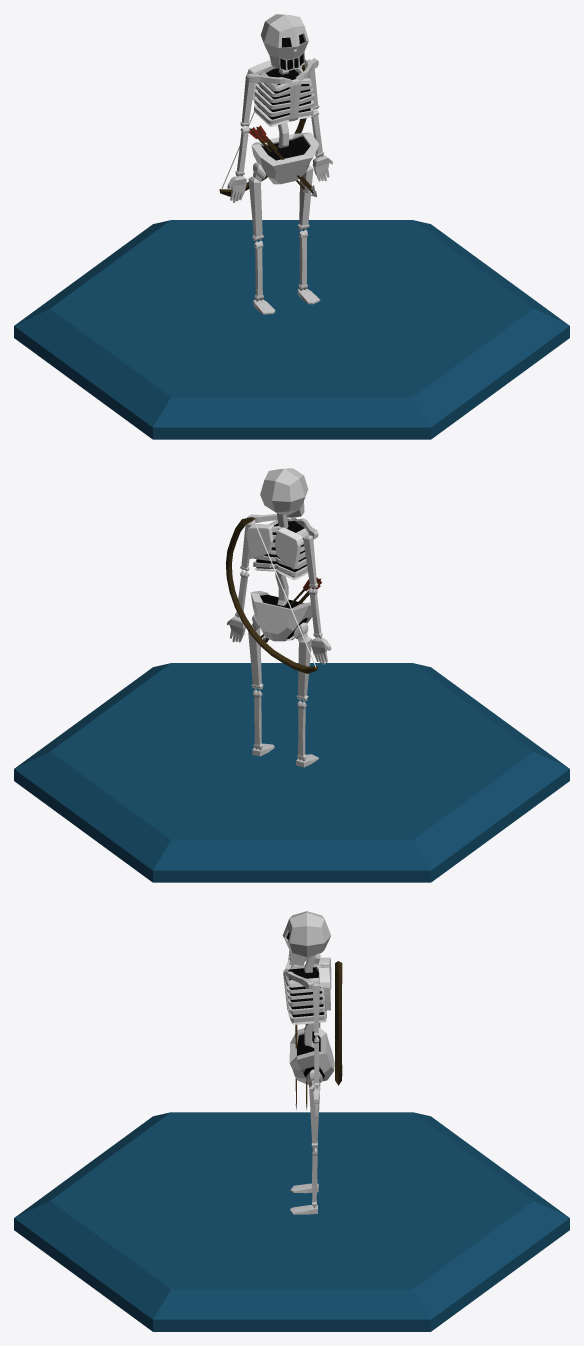
Rendered from Bow_Figure.fbx.
3 renders of one model, top to bottom at view 1: azimuth 30°, elevation 25°; view 2: azimuth 150°, elevation 25°; view 3: azimuth 270°, elevation 25°, orthographic.
Parts seen in each view (by area): view 1: Base, Ribs, Waist, Skull, Upper Leg Right, Upper Leg Left, Collar Bones; view 2: Base, Waist, Skull, Shoulder, Bow, Ribs, Upper Leg Right, Upper Leg Left; view 3: Base, Skull, Ribs, Waist, Bow, Upper Leg Left, Shoulder.
Boxes of the visible parts, box(x1,y1,x2,y2) form: Base: box(14, 220, 569, 439); Ribs: box(254, 66, 314, 126); Waist: box(251, 132, 319, 184); Skull: box(260, 14, 308, 71); Upper Leg Right: box(248, 162, 265, 241); Upper Leg Left: box(297, 165, 313, 230); Collar Bones: box(247, 58, 318, 83); Base: box(14, 663, 569, 882); Waist: box(250, 591, 312, 641); Skull: box(260, 468, 308, 517); Shoulder: box(246, 524, 303, 569); Bow: box(226, 517, 317, 673); Ribs: box(253, 518, 308, 579); Upper Leg Right: box(293, 622, 312, 701); Upper Leg Left: box(248, 614, 263, 689); Base: box(14, 1112, 569, 1331); Skull: box(282, 911, 330, 965); Ribs: box(283, 963, 326, 1024); Waist: box(289, 1027, 334, 1084); Bow: box(335, 961, 342, 1085); Upper Leg Left: box(306, 1069, 322, 1148); Shoulder: box(318, 957, 331, 1010).
Size of the model in its own units: 483 by 352 by 558.
